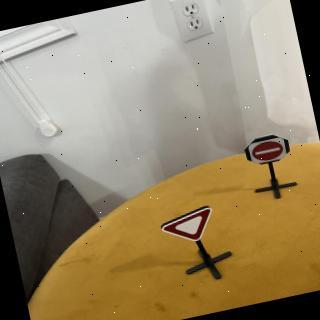sign_noentry: (247, 136, 290, 167)
sign_yield: (159, 206, 221, 249)
